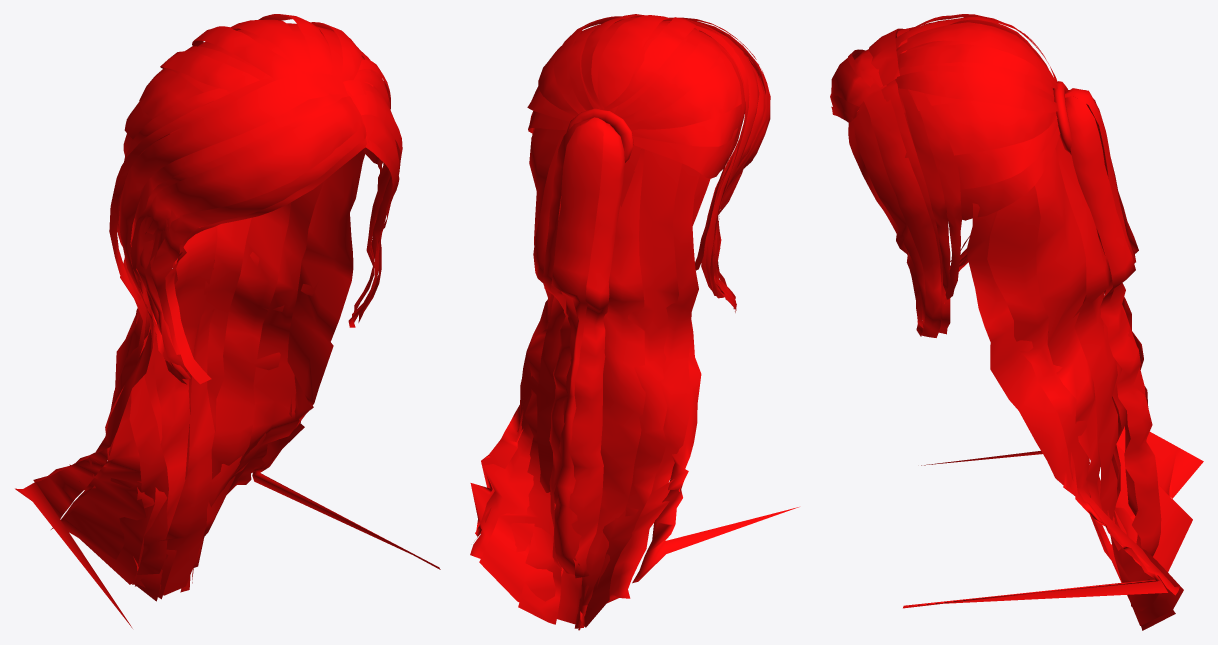
File: elvs_keylth_hair_F.glb
3 views of the same model, side by side, from view 1: azimuth 30°, elevation 25°; view 2: azimuth 150°, elevation 25°; view 3: azimuth 270°, elevation 25° (orthographic). The views are drawn at different scales.
Bounding box in the file's own units: 0.2511 × 0.5131 × 0.2914.
Materials: 1 (1 with a texture image).
